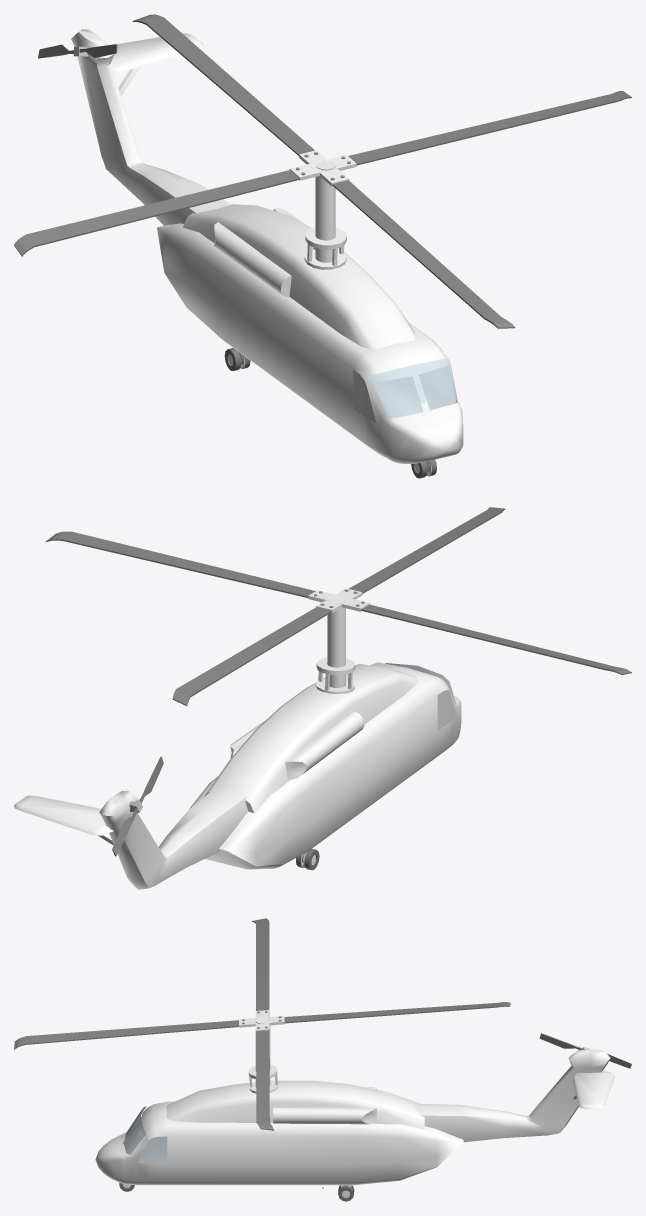
Rendered from helicopter.glb.
3 views of the same model, one above another, from view 1: azimuth 30°, elevation 25°; view 2: azimuth 150°, elevation 25°; view 3: azimuth 270°, elevation 25° (orthographic). The views are drawn at different scales.
Visible parts, largest first — view 1: Group_008, Group_001, Group_003, Group_005, Group_010, Group_006, Group_004, Group_002, Cylinder, Group_007, Group_011; view 2: Group_001, Group_008, Group_004, Group_005, Group_003, Group_002, Group_006, Cylinder, Group_007, Group_011; view 3: Group_008, Group_001, Group_006, Group_002, Group_005, Group_004, Group_003, Group_009, Group_010, Group_007.
Part boxes in pixels (box(x1,y1,x2,y2)): Group_008: box(157, 223, 463, 463); Group_001: box(71, 29, 430, 413); Group_003: box(14, 163, 323, 256); Group_005: box(132, 14, 326, 164); Group_010: box(369, 359, 456, 418); Group_006: box(320, 168, 515, 328); Group_004: box(323, 91, 631, 170); Group_002: box(214, 208, 303, 297); Cylinder: box(315, 161, 335, 262); Group_007: box(38, 44, 117, 58); Group_011: box(353, 370, 375, 422); Group_001: box(14, 657, 418, 889); Group_008: box(189, 662, 461, 869); Group_004: box(45, 531, 334, 602); Group_005: box(172, 600, 341, 705); Group_003: box(339, 597, 631, 675); Group_002: box(230, 711, 364, 780); Group_006: box(336, 507, 505, 599); Cylinder: box(327, 594, 345, 687); Group_007: box(112, 756, 163, 856); Group_011: box(437, 690, 455, 730); Group_008: box(95, 1101, 463, 1185); Group_001: box(123, 1049, 615, 1143); Group_006: box(14, 1018, 255, 1049); Group_002: box(273, 1087, 376, 1124); Group_005: box(268, 1002, 510, 1025); Group_004: box(255, 1021, 274, 1130); Group_003: box(252, 918, 269, 1019); Group_009: box(137, 1136, 167, 1163); Group_010: box(124, 1106, 146, 1154); Group_007: box(539, 1033, 631, 1068).
Bounding box in the file's own units: 4.99 × 2.05 × 6.19.
